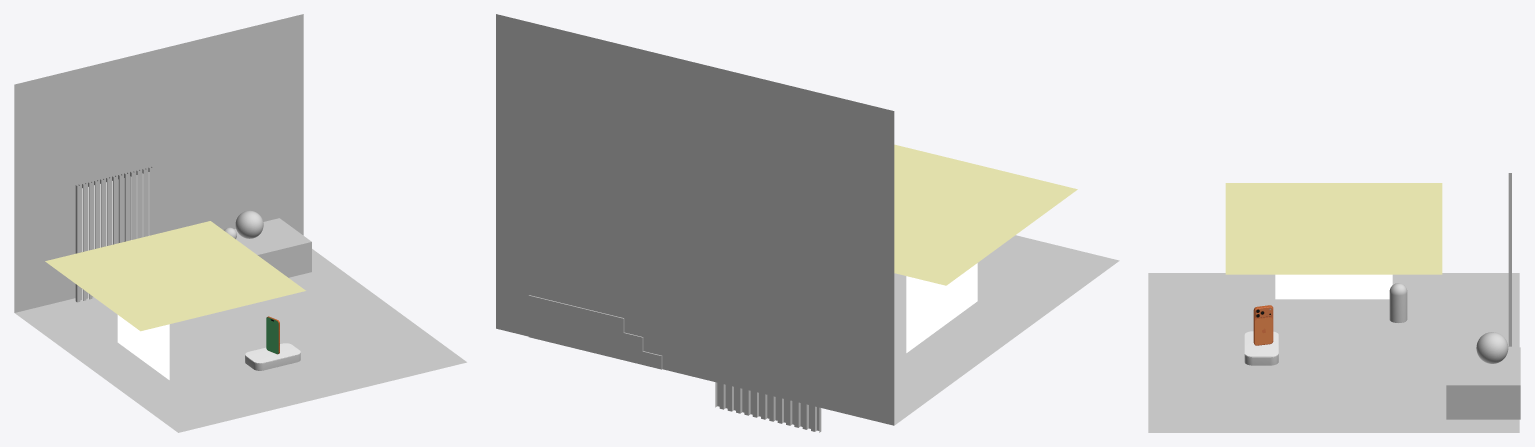
The model's file is Dot next mockup_Scene 1.glb.
3 renders of one model, left to right at view 1: azimuth 30°, elevation 25°; view 2: azimuth 150°, elevation 25°; view 3: azimuth 270°, elevation 25°, orthographic. The views are drawn at different scales.
Visible parts, largest first — view 1: Plane, Plane.002, Plane.001, Cube.001, Plane.003, Cube, Sphere, Cube.010; view 2: Plane, Plane.002, Cube.001, Plane.003, Plane.001; view 3: Plane, Plane.002, Cube.001, Plane.003, Cube, Sphere, Cube.010, Sphere.002, Plane.001.
Boxes of the visible parts, x1,y1,x2,y2 form: Plane: (14,14,466,432); Plane.002: (45,221,305,331); Plane.001: (75,167,152,302); Cube.001: (234,218,311,277); Plane.003: (117,315,169,379); Cube: (245,343,300,370); Sphere: (235,210,263,238); Cube.010: (266,316,279,354); Plane: (496,14,1119,425); Plane.002: (894,144,1077,285); Cube.001: (528,295,662,369); Plane.003: (906,263,977,352); Plane.001: (715,382,821,432); Plane: (1148,273,1519,432); Plane.002: (1225,183,1442,274); Cube.001: (1446,347,1520,419); Plane.003: (1275,274,1392,299); Cube: (1244,331,1278,365); Sphere: (1476,332,1508,363); Cube.010: (1253,305,1273,345); Sphere.002: (1389,283,1407,322); Plane.001: (1508,173,1511,346).
Bounding box in the file's own units: 22.61 × 18.47 × 21.97.
Materials: 17 (1 with a texture image).
